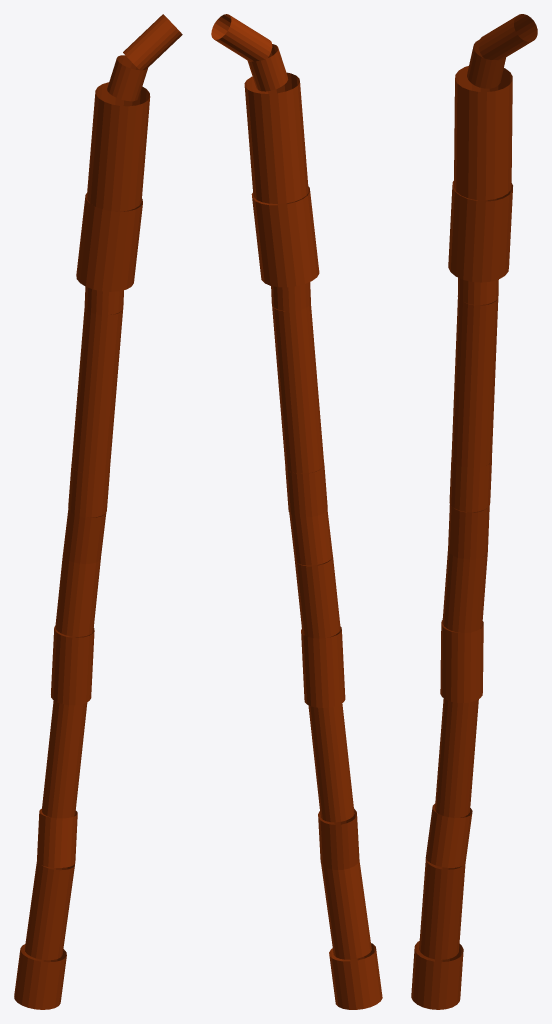
The model's file is tree_0074.obj.
3 renders of one model, left to right at view 1: azimuth 30°, elevation 25°; view 2: azimuth 210°, elevation 25°; view 3: azimuth 330°, elevation 25°, orthographic. The views are drawn at different scales.
Parts seen in each view (by area): view 1: groupWood; view 2: groupWood; view 3: groupWood.
Part boxes in pixels (x1,y1,x2,y2): groupWood: (14, 14, 182, 1009); groupWood: (211, 14, 382, 1009); groupWood: (411, 14, 537, 1009).
Size of the model in its own units: 3.29 by 22.17 by 1.86.
